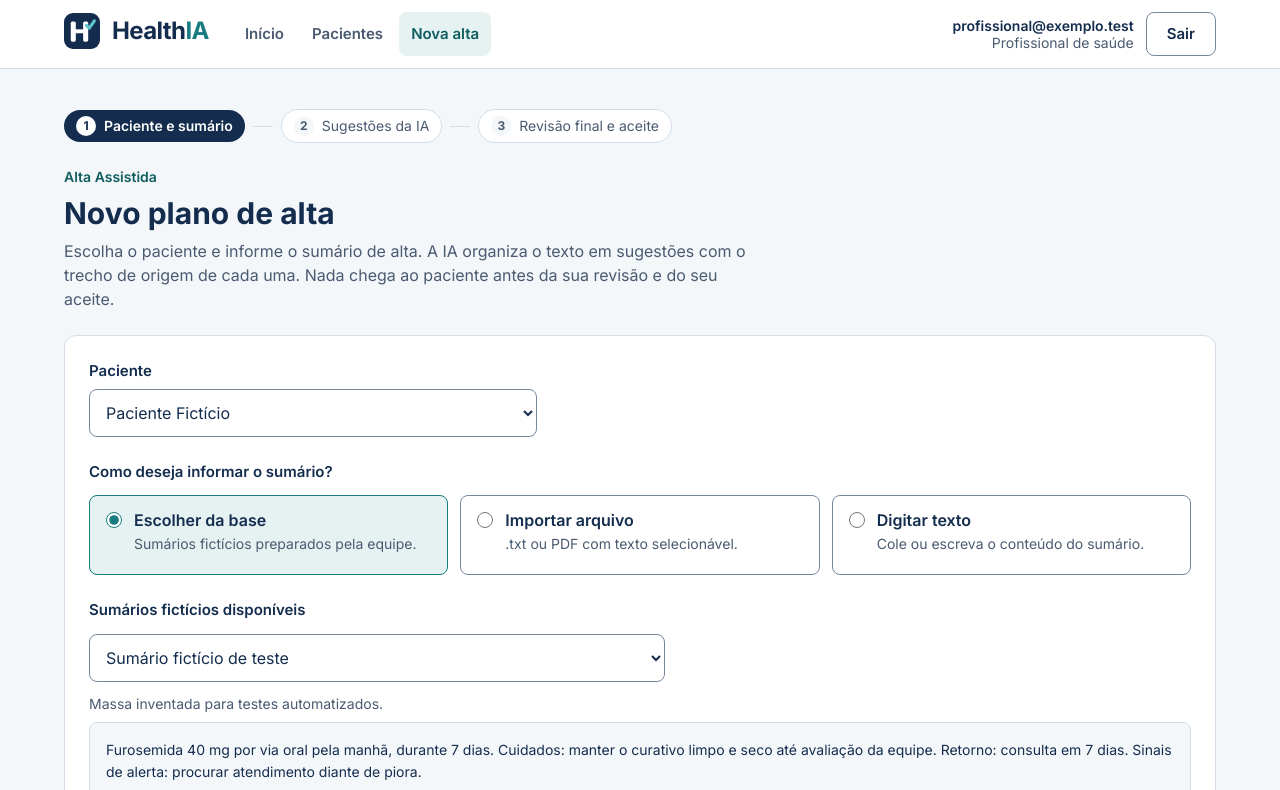
Entrada do Alta Assistida › texto digitado é enviado como texto e não é modificado
The width and height of the screenshot is (1280, 790).
Click the radio button labelled "Digitar texto Cole ou escreva o conteúdo do sumário.".
click(857, 520)  # box top-left (849, 512), bottom-right (865, 528)
(page scrolled)
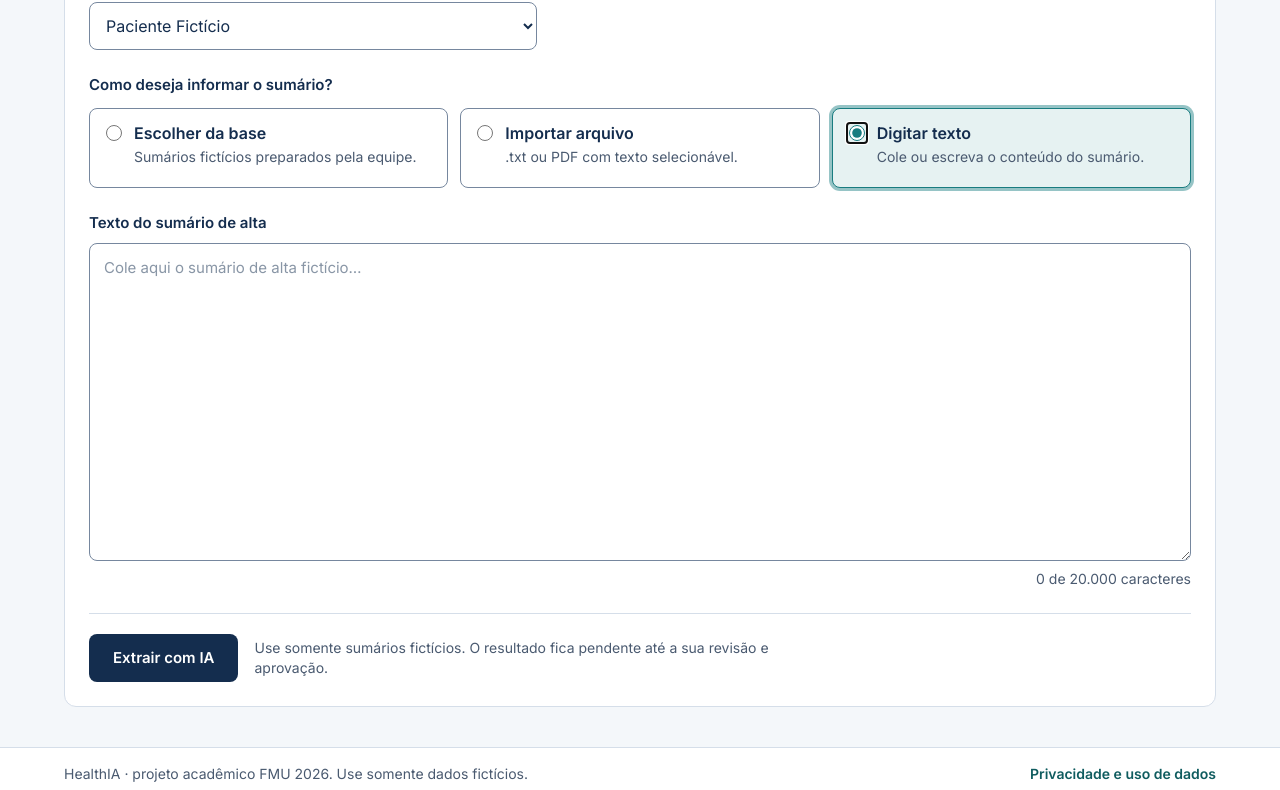
Type "  Sumário fictício colado.  " into the text box labelled "Texto do sumário de alta".
click(640, 402); type("  Sumário fictício colado.  ")  # box top-left (89, 242), bottom-right (1191, 561)
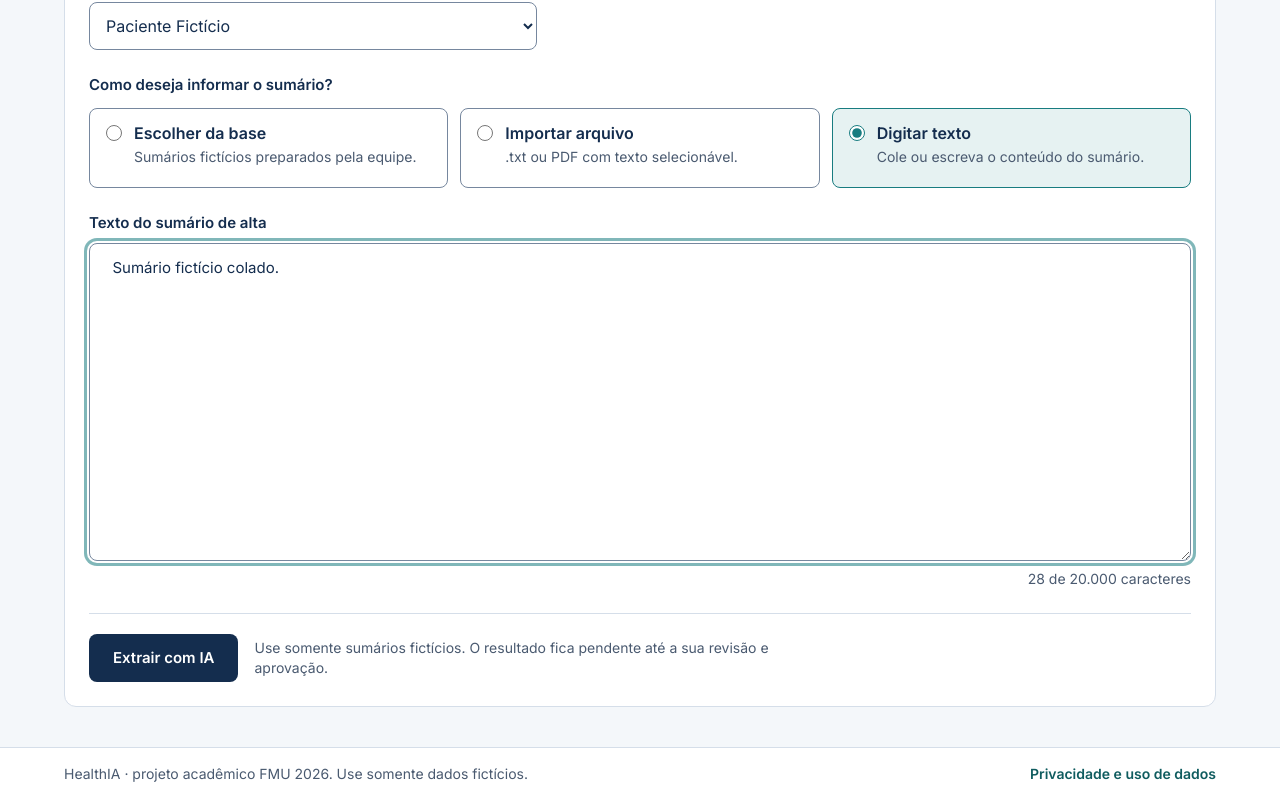
Click the button "Extrair com IA".
click(164, 658)  # box top-left (89, 634), bottom-right (238, 682)
(page scrolled)
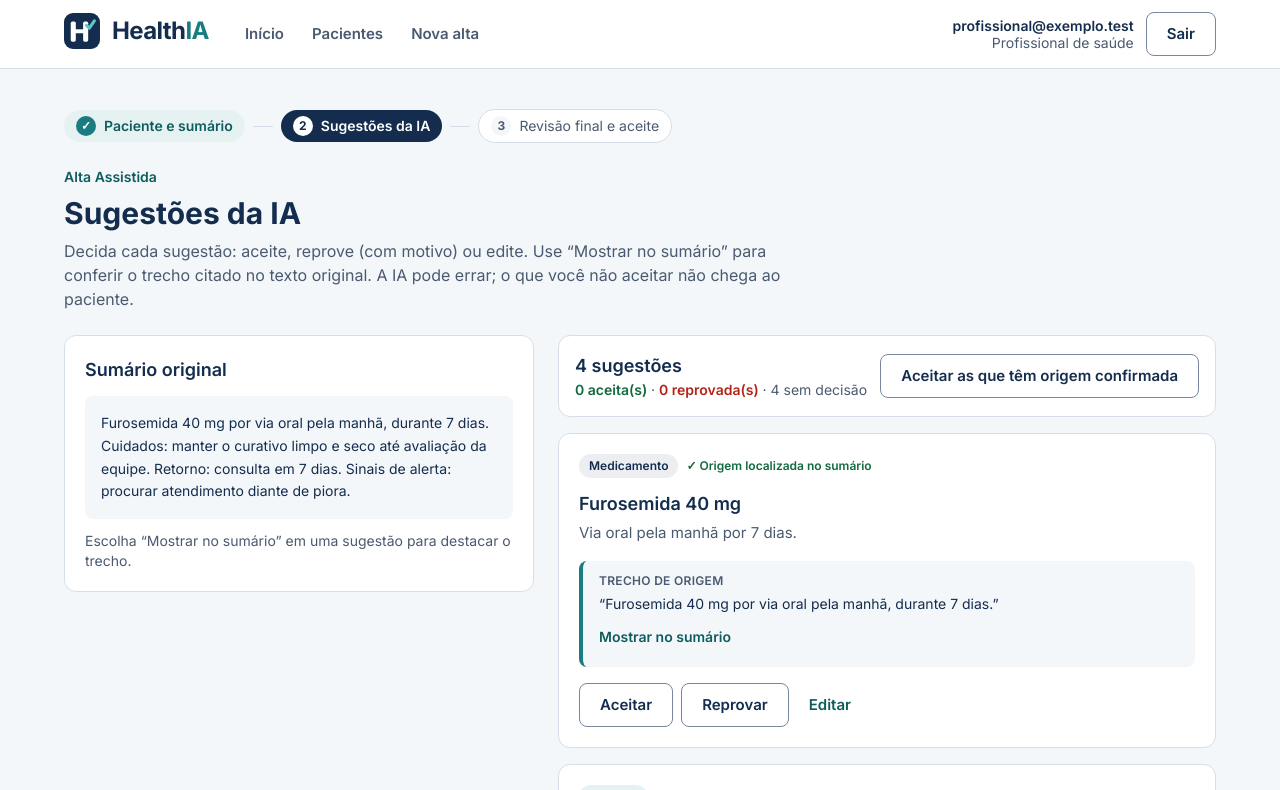
expect the heading "Sugestões da IA" is shown: met, box top-left (64, 195), bottom-right (301, 231)
